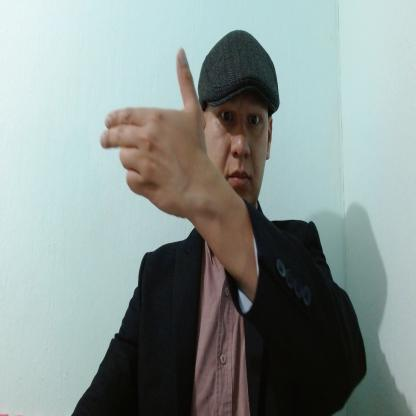H: (101, 45, 204, 220)
